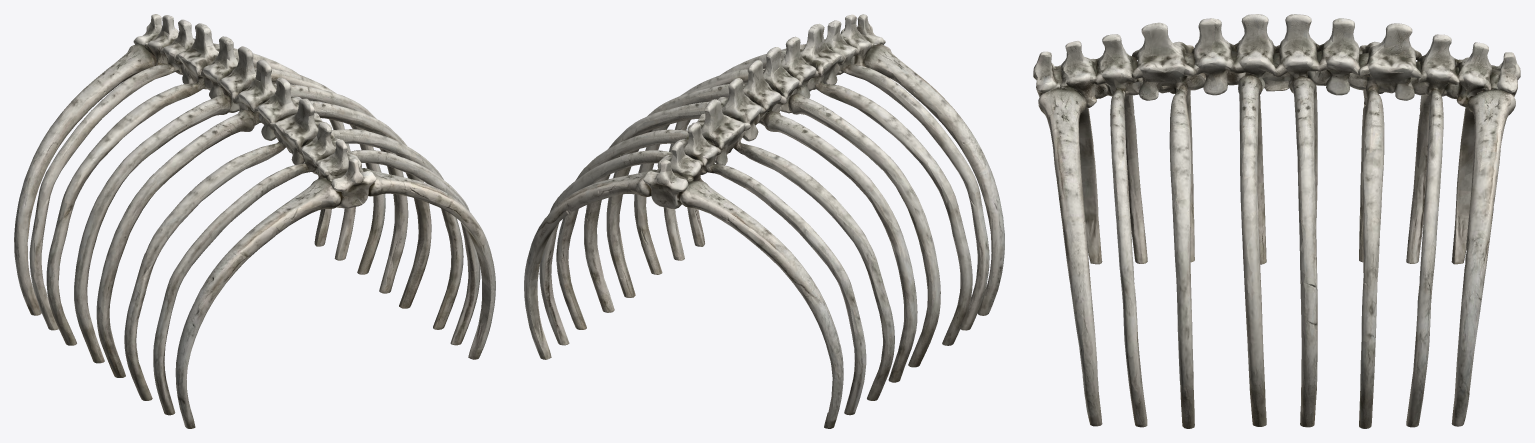
The model's file is sv_ribcage.glb.
3 renders of one model, left to right at view 1: azimuth 30°, elevation 25°; view 2: azimuth 150°, elevation 25°; view 3: azimuth 270°, elevation 25°, orthographic. The views are drawn at different scales.
Bounding box in the file's own units: 1.78 × 1.41 × 1.9.
1 material, 1 textured.
